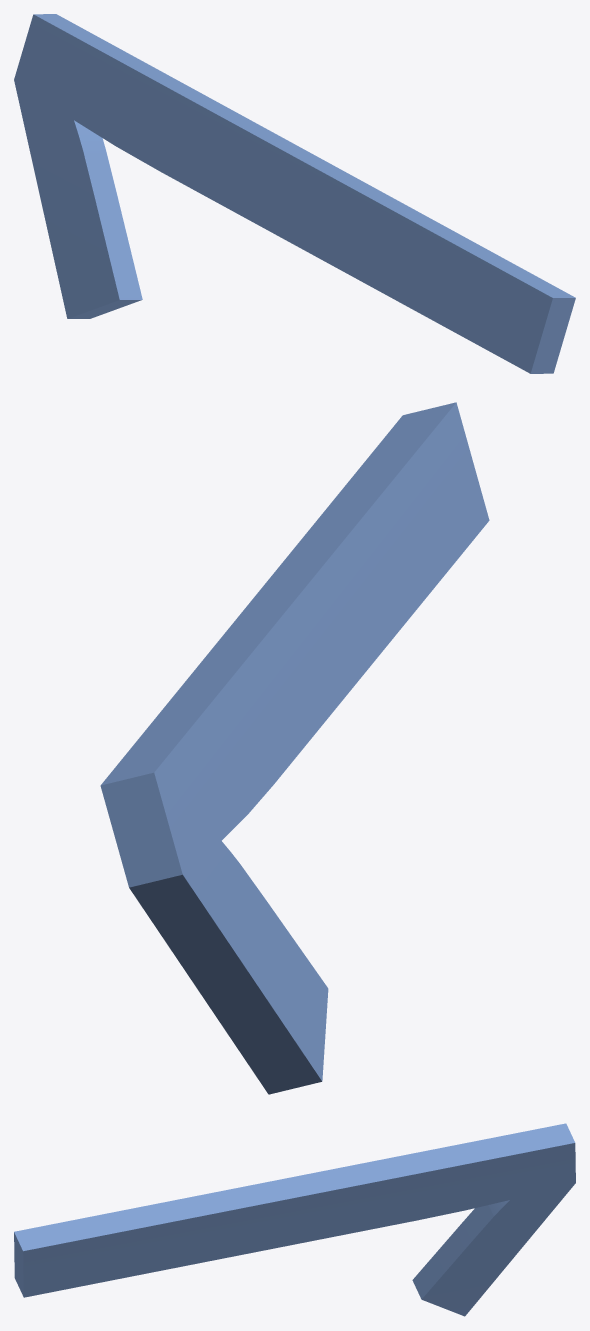
The model's file is New_Number_1.gltf.
3 views of the same model, one above another, from view 1: azimuth 30°, elevation 25°; view 2: azimuth 150°, elevation 25°; view 3: azimuth 270°, elevation 25° (orthographic). The views are drawn at different scales.
Visible parts, largest first — view 1: Part 712; view 2: Part 712; view 3: Part 712.
Boxes of the visible parts, x1,y1,x2,y2 form: Part 712: (14,14,575,373); Part 712: (100,402,489,1094); Part 712: (14,1123,575,1316).
Bounding box in the file's own units: 0.00179 × 0.00191 × 0.00494.
